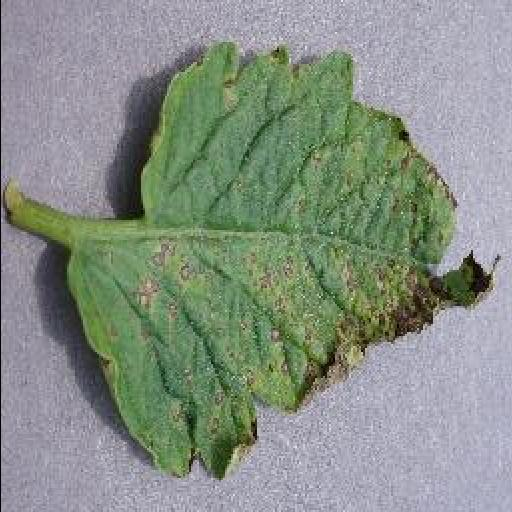disease_tomato: (66, 47, 498, 483)
